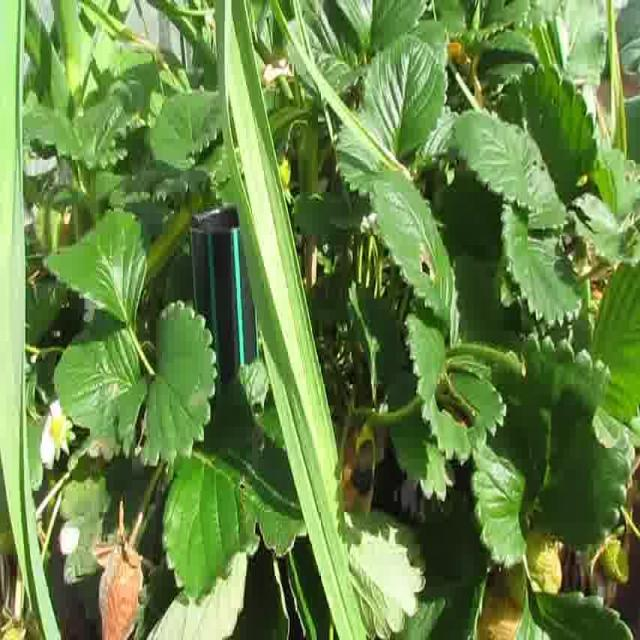Moho gris: (94, 530, 147, 640)
